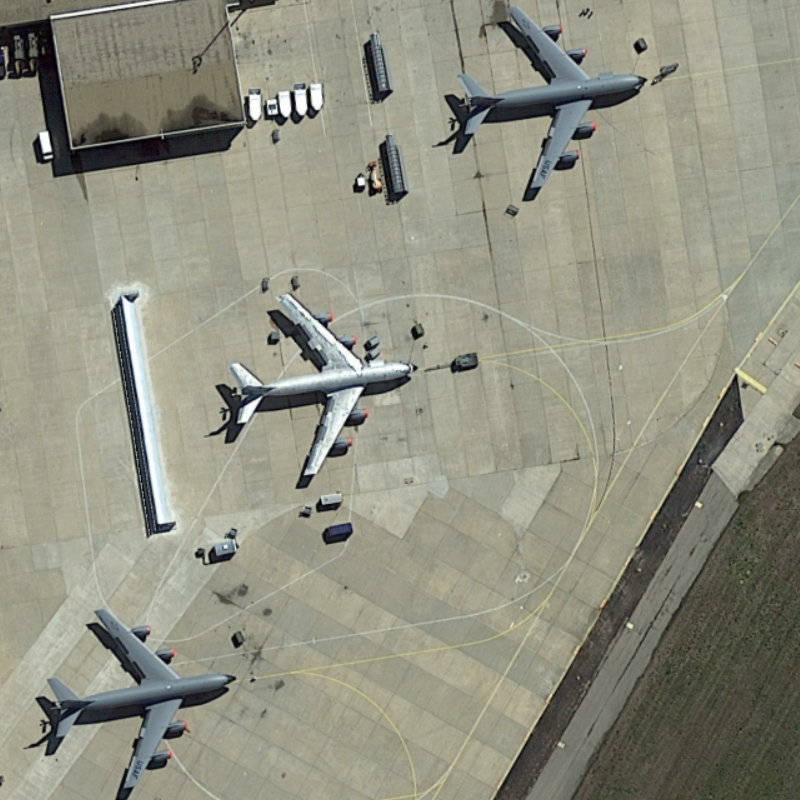A14: (442, 1, 659, 197), (38, 600, 243, 799), (226, 287, 420, 490)
